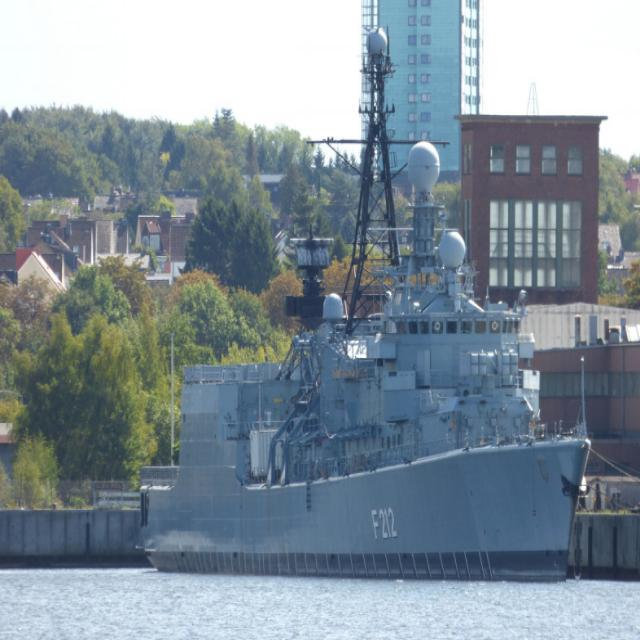Fragata: (142, 1, 599, 581)
